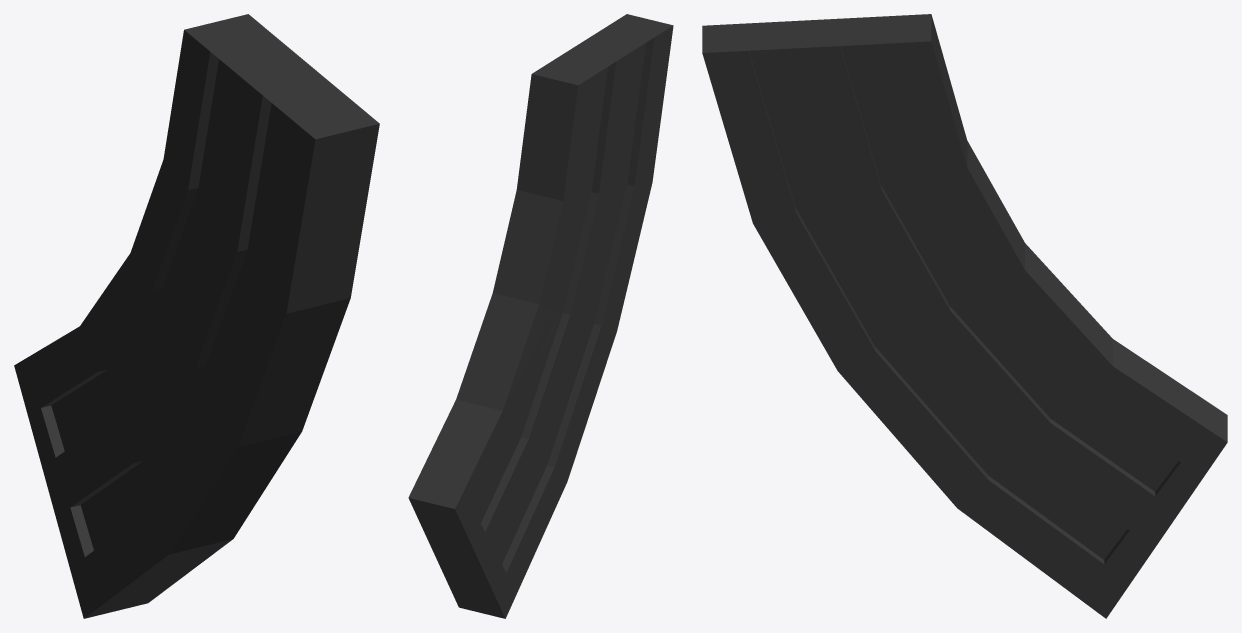
Rendered from ak47_magazine.glb.
3 renders of one model, left to right at view 1: azimuth 30°, elevation 25°; view 2: azimuth 150°, elevation 25°; view 3: azimuth 270°, elevation 25°, orthographic. The views are drawn at different scales.
Parts seen in each view (by area): view 1: ak47_magazine; view 2: ak47_magazine; view 3: ak47_magazine.
Boxes of the visible parts, x1=… form: ak47_magazine: x1=14, y1=14, x2=379, y2=618; ak47_magazine: x1=408, y1=14, x2=673, y2=618; ak47_magazine: x1=702, y1=14, x2=1227, y2=618.
Bounding box in the file's own units: 0.0177 × 0.1741 × 0.1436.
1 material, 1 textured.
